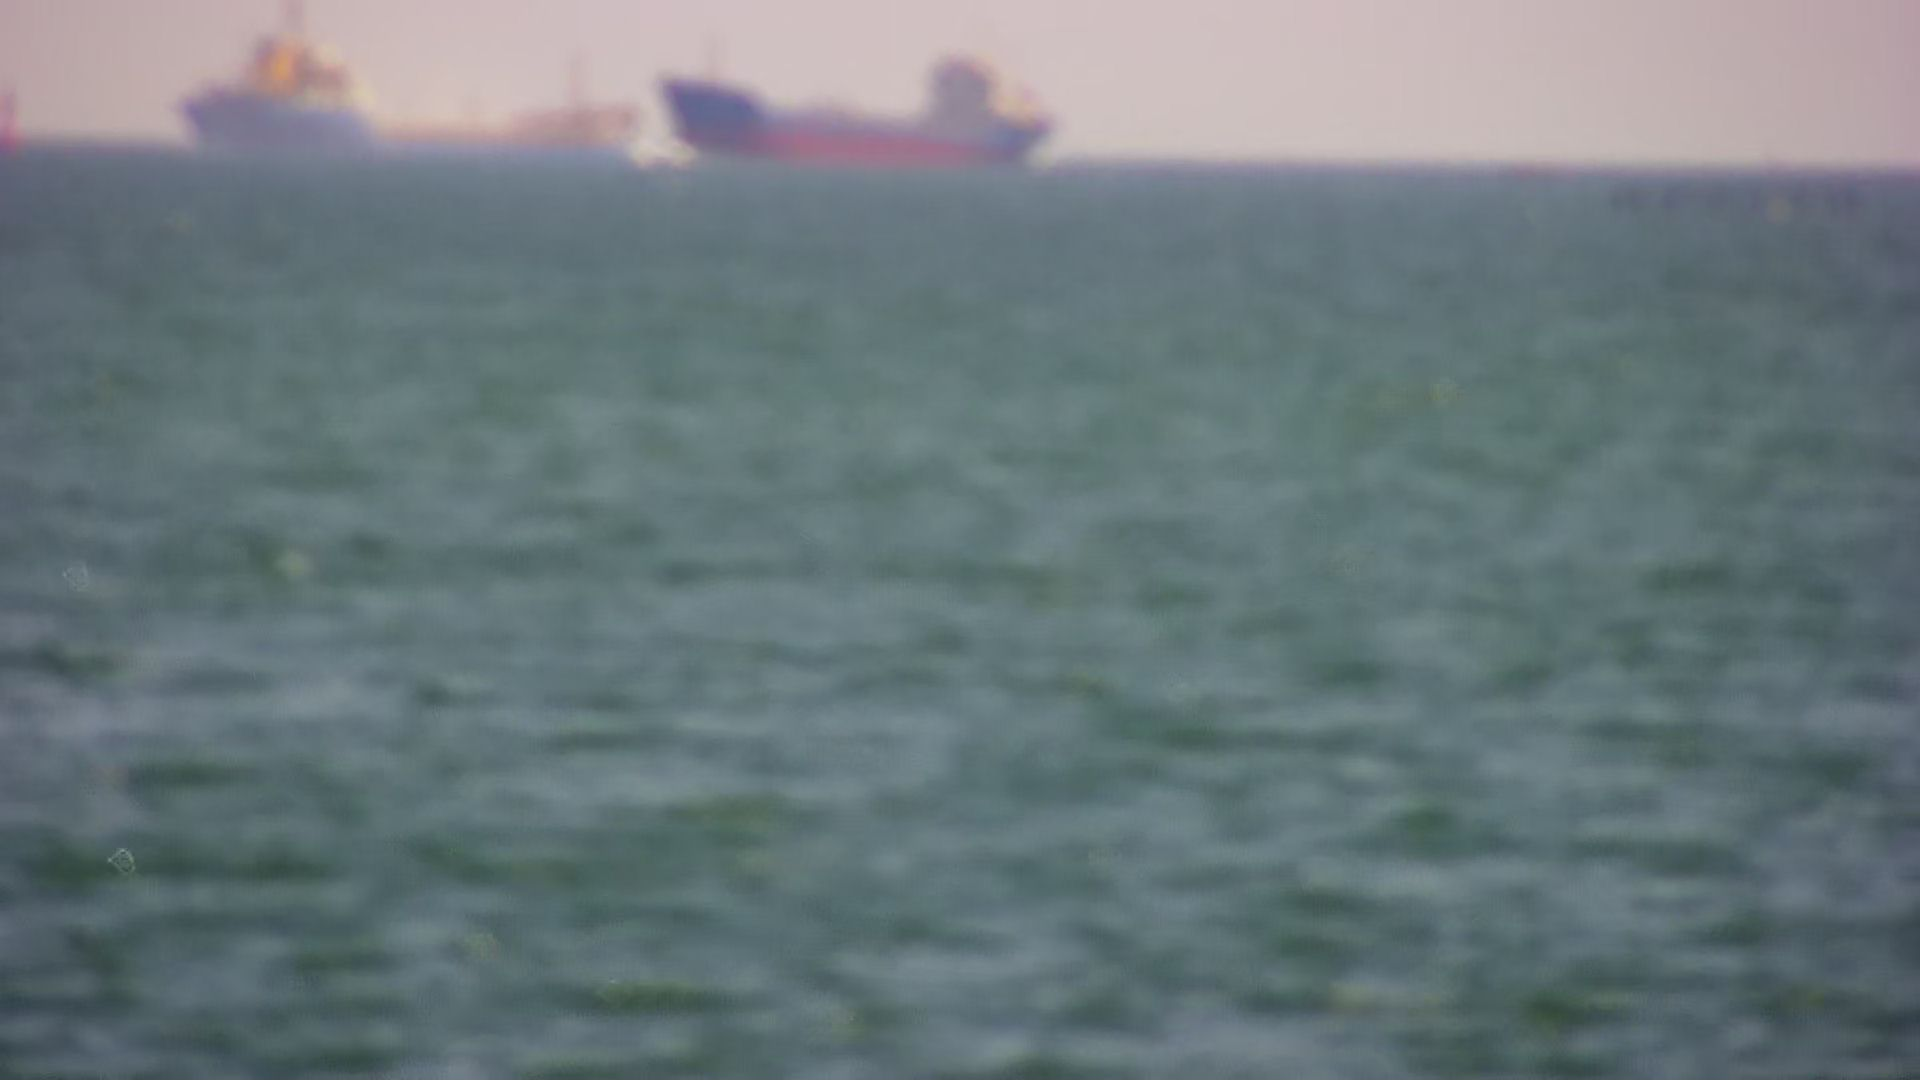ship: (145, 11, 651, 175), (645, 22, 1083, 179)
